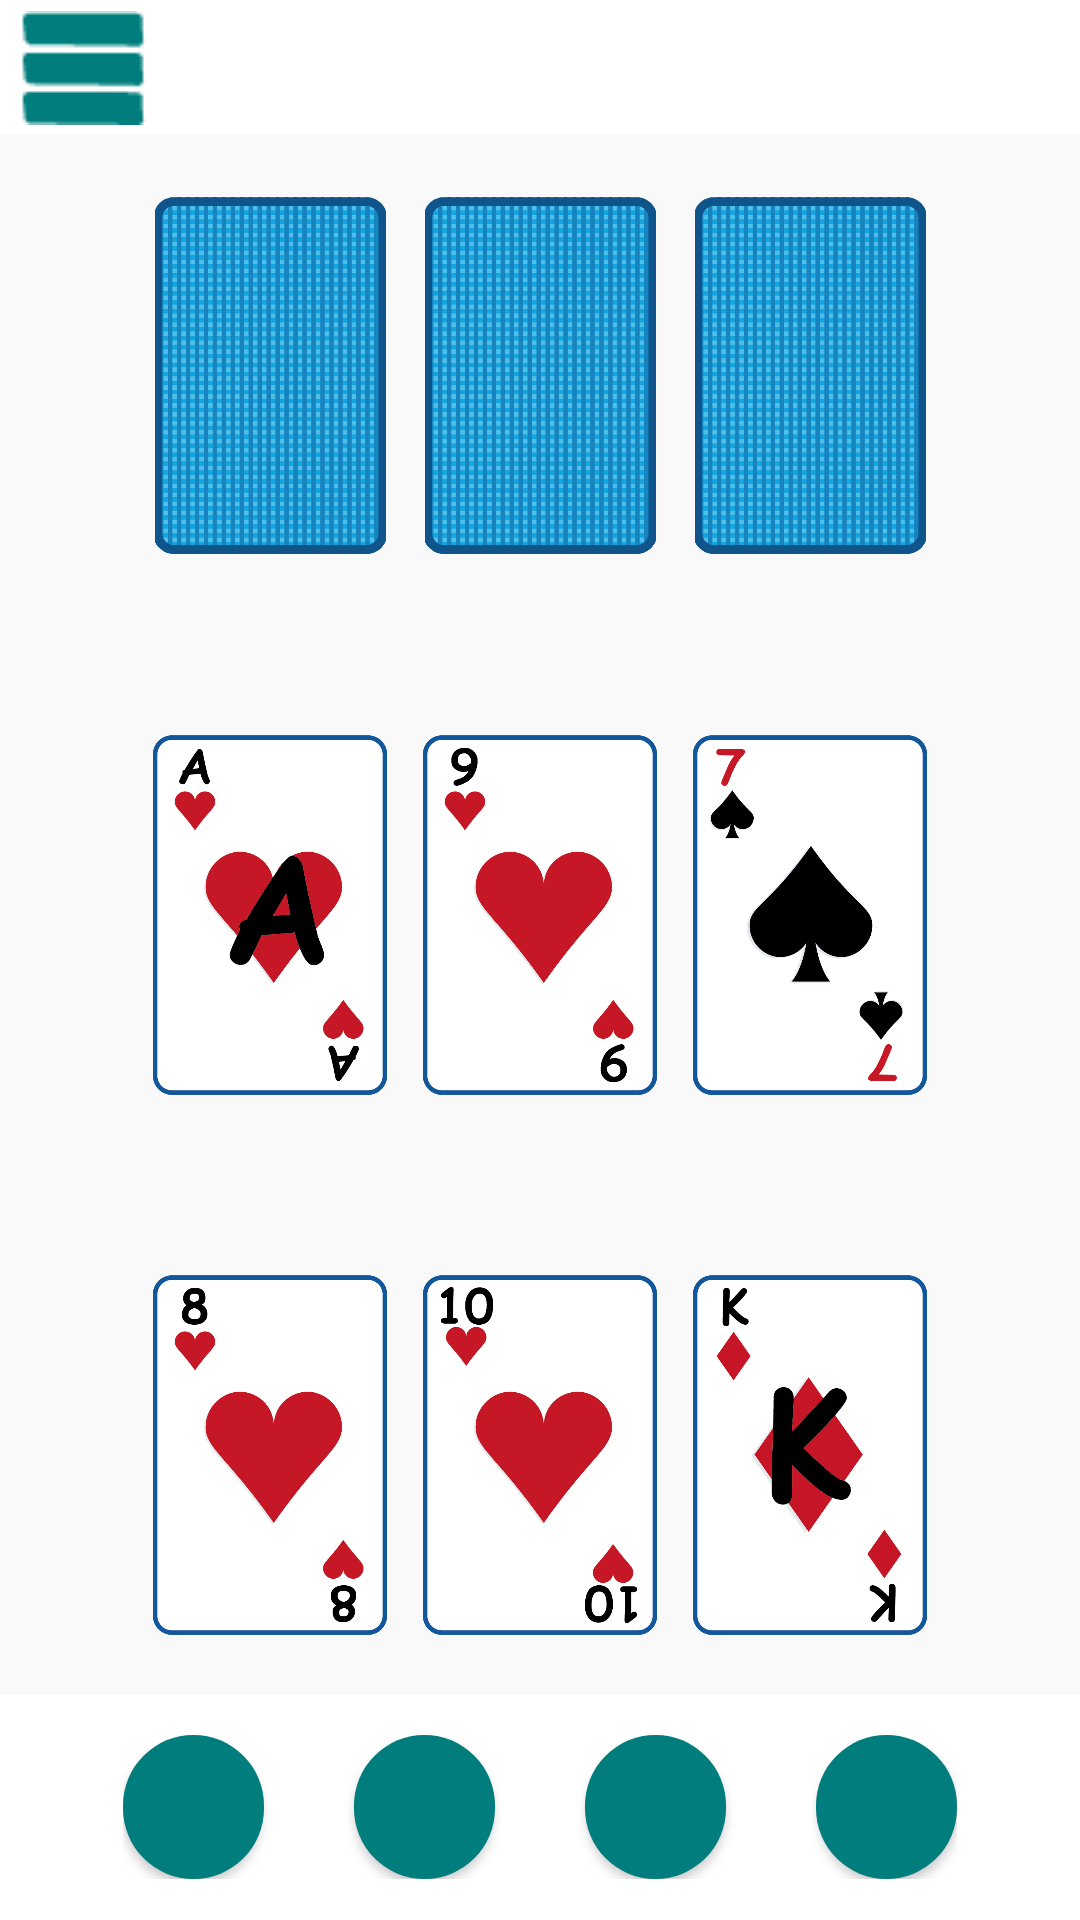

Locate icon controls on the screen. Image size 1080px x 1920px, boxes as (x1, y1, x2, y2).
card back: (155, 197, 386, 554), (425, 197, 656, 554), (695, 197, 926, 554)
card caro: (693, 1275, 927, 1635)
card heart: (153, 735, 387, 1095), (423, 735, 657, 1095), (153, 1275, 387, 1635), (423, 1275, 657, 1635)
card pik: (693, 735, 927, 1095)
menu: (22, 11, 146, 125)
